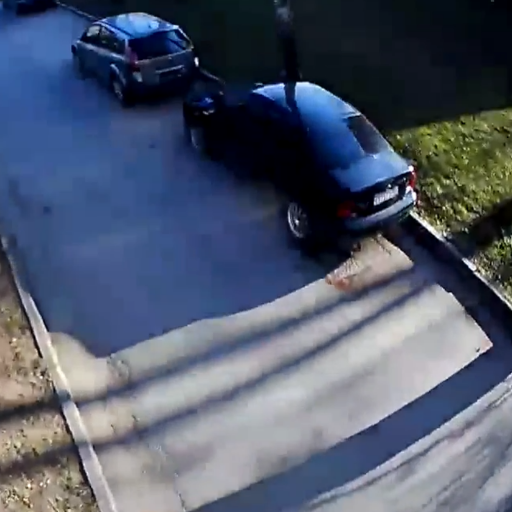Car: (176, 77, 419, 245), (68, 8, 201, 103)
